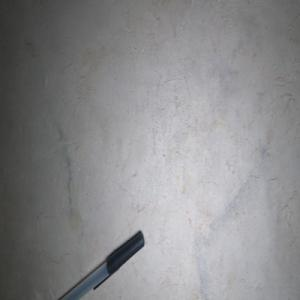Pen: (60, 231, 144, 300)
